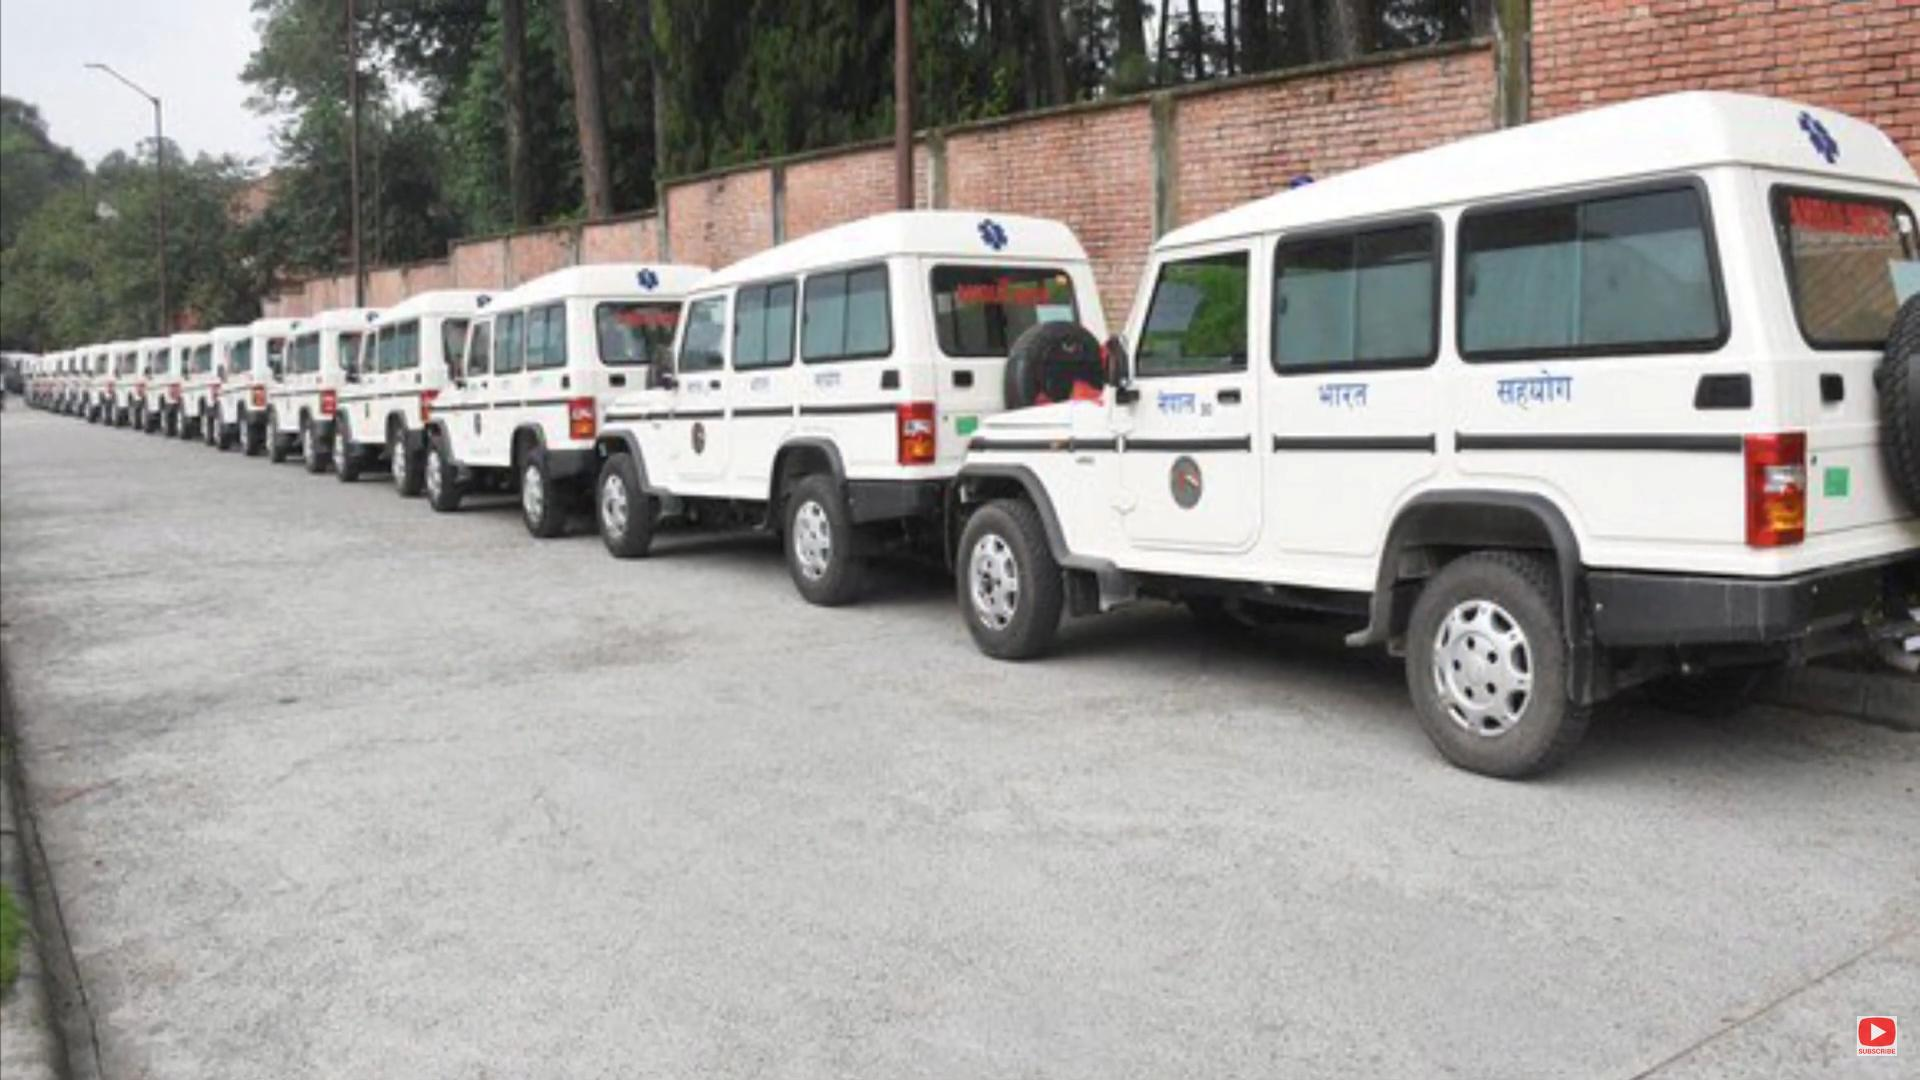ambulance: (945, 88, 1920, 782), (593, 203, 1131, 621), (417, 248, 741, 538)
